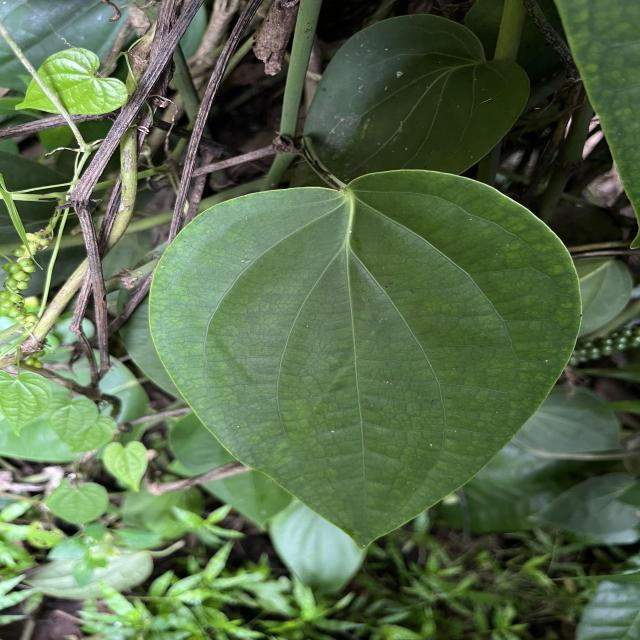Piper nigrum: (145, 166, 585, 555)
